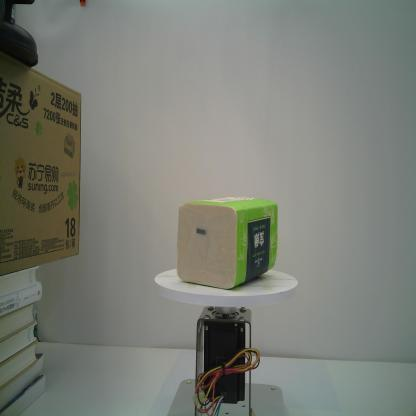Tissue: (176, 195, 278, 289)
